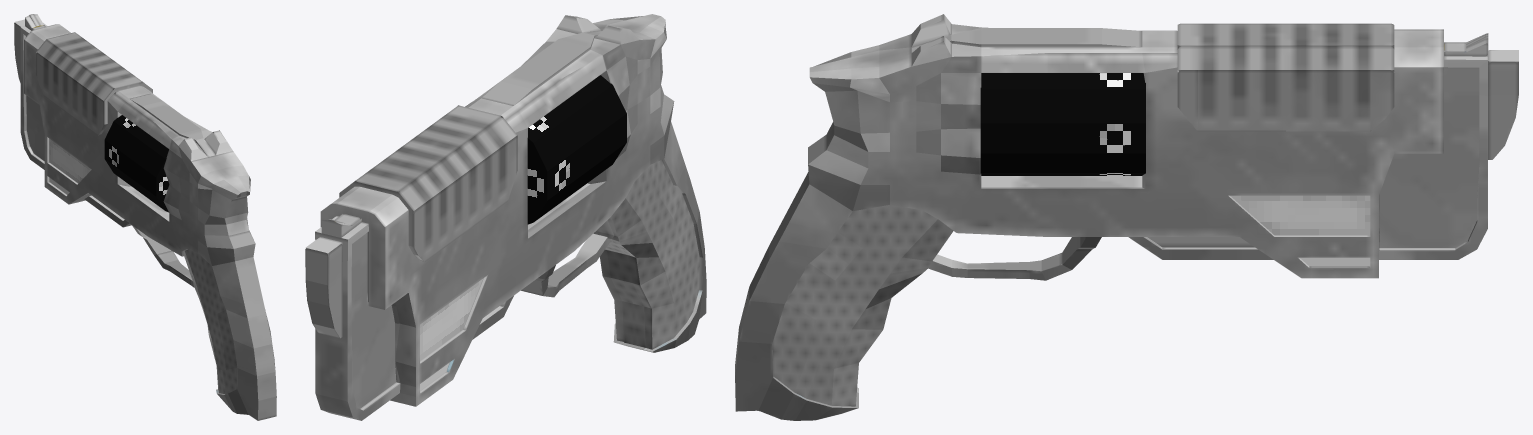
File: CyberPistol.fbx
3 views of the same model, side by side, from view 1: azimuth 30°, elevation 25°; view 2: azimuth 150°, elevation 25°; view 3: azimuth 270°, elevation 25° (orthographic). The views are drawn at different scales.
Visible parts, largest first — view 1: Primary, Secondary_1, Glow_1, Glow; view 2: Primary, Secondary_1, Glow_1, Glow; view 3: Primary, Secondary_1, Glow_1, Glow.
Part boxes in pixels (box(x1,y1,x2,y2)): Primary: box(14, 14, 276, 420); Secondary_1: box(26, 32, 237, 394); Glow_1: box(104, 115, 196, 212); Glow: box(49, 139, 91, 194); Primary: box(305, 14, 706, 420); Secondary_1: box(327, 30, 699, 408); Glow_1: box(527, 75, 626, 224); Glow: box(420, 279, 482, 390); Primary: box(735, 14, 1518, 420); Secondary_1: box(772, 23, 1479, 406); Glow_1: box(980, 73, 1145, 175); Glow: box(1230, 195, 1370, 266).
Bounding box in the file's own units: 50.62 × 170 × 317.
3 materials, 3 textured.
